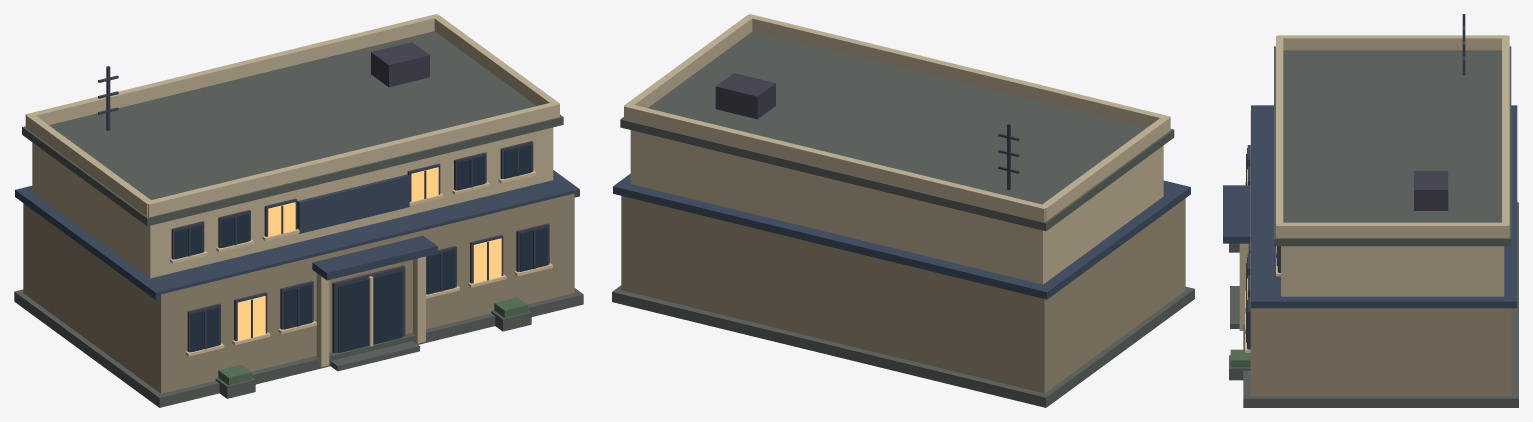
The model's file is central_investigacao.glb.
3 views of the same model, side by side, from view 1: azimuth 30°, elevation 25°; view 2: azimuth 150°, elevation 25°; view 3: azimuth 270°, elevation 25° (orthographic). The views are drawn at different scales.
Visible parts, largest first — view 1: central_investigacao; view 2: central_investigacao; view 3: central_investigacao.
Part boxes in pixels (x1,y1,x2,y2): central_investigacao: (14, 14, 583, 407); central_investigacao: (612, 14, 1194, 407); central_investigacao: (1223, 14, 1518, 407).
Bounding box in the file's own units: 16 × 8.65 × 10.2.
